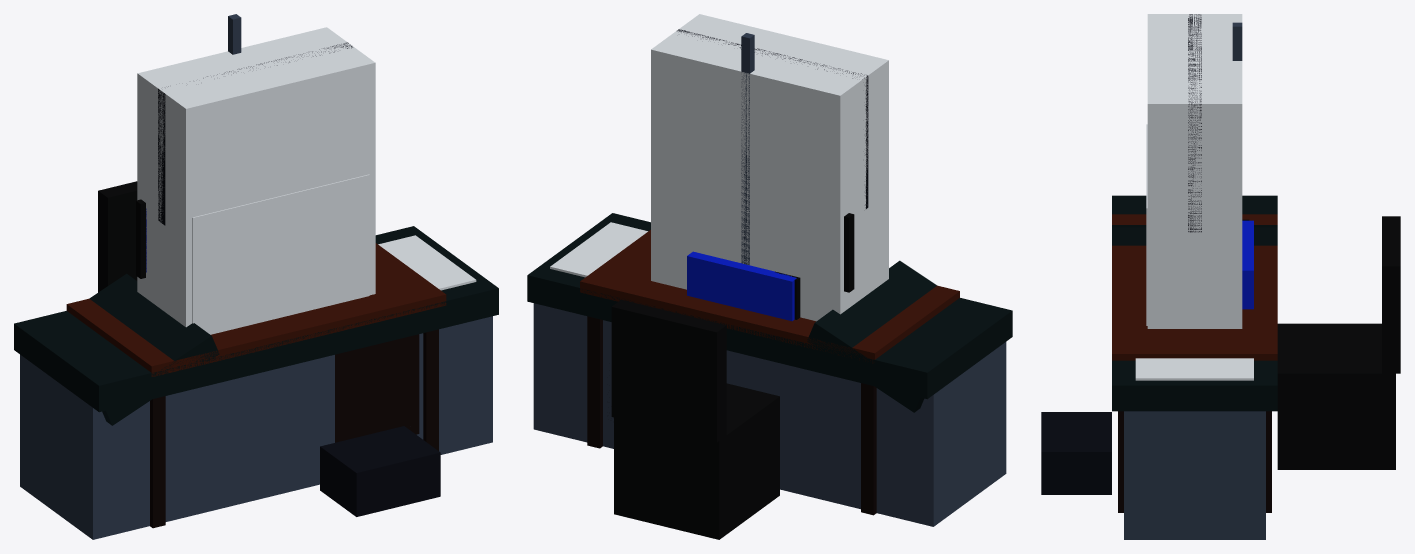
The model's file is clinic_kit.glb.
3 renders of one model, left to right at view 1: azimuth 30°, elevation 25°; view 2: azimuth 150°, elevation 25°; view 3: azimuth 270°, elevation 25°, orthographic. The views are drawn at different scales.
Visible parts, largest first — view 1: SM_CL_Couch, SM_CL_Cabinet, SM_CL_Desk, SM_CL_Cabinet_glass, SM_CL_Lightbox; view 2: SM_CL_Couch, SM_CL_Cabinet, SM_CL_Desk, SM_CL_Chair, SM_CL_Scale, SM_CL_Lightbox; view 3: SM_CL_Couch, SM_CL_Desk, SM_CL_Cabinet, SM_CL_Lightbox, SM_CL_Chair.
Boxes of the visible parts, x1=… form: SM_CL_Couch: x1=14, y1=226, x2=498, y2=539; SM_CL_Cabinet: x1=137, y1=27, x2=375, y2=327; SM_CL_Desk: x1=66, y1=181, x2=446, y2=528; SM_CL_Cabinet_glass: x1=192, y1=174, x2=369, y2=334; SM_CL_Lightbox: x1=158, y1=42, x2=352, y2=225; SM_CL_Couch: x1=527, y1=213, x2=1012, y2=526; SM_CL_Cabinet: x1=651, y1=14, x2=888, y2=321; SM_CL_Desk: x1=580, y1=213, x2=959, y2=539; SM_CL_Chair: x1=687, y1=251, x2=796, y2=321; SM_CL_Scale: x1=741, y1=33, x2=754, y2=264; SM_CL_Lightbox: x1=677, y1=29, x2=868, y2=208; SM_CL_Couch: x1=1041, y1=195, x2=1277, y2=539; SM_CL_Desk: x1=1112, y1=214, x2=1400, y2=512; SM_CL_Cabinet: x1=1147, y1=14, x2=1242, y2=328; SM_CL_Lightbox: x1=1188, y1=14, x2=1201, y2=232; SM_CL_Chair: x1=1242, y1=220, x2=1253, y2=309.
Bounding box in the file's own units: 1.9 × 1.96 × 1.52.
Materials: 7 (7 with a texture image).
